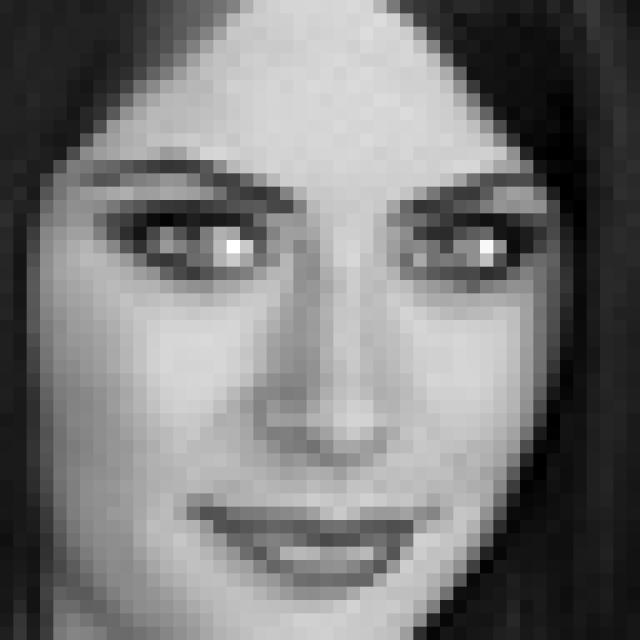neutral: (77, 149, 556, 607)
